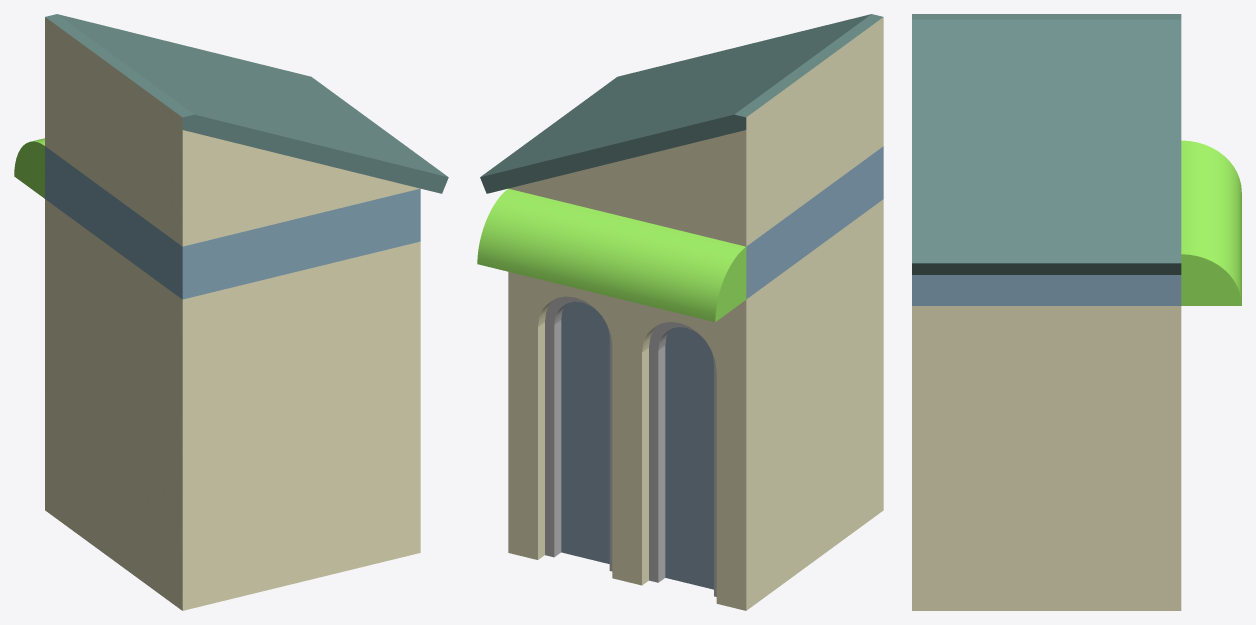
File: SM_Building_05.fbx
3 renders of one model, left to right at view 1: azimuth 30°, elevation 25°; view 2: azimuth 150°, elevation 25°; view 3: azimuth 270°, elevation 25°, orthographic. The views are drawn at different scales.
Visible parts, largest first — view 1: SM_Building_05; view 2: SM_Building_05; view 3: SM_Building_05.
Part boxes in pixels (x1,y1,x2,y2): SM_Building_05: (14, 14, 448, 610); SM_Building_05: (477, 14, 883, 610); SM_Building_05: (912, 14, 1241, 610).
Bounding box in the file's own units: 448 × 793 × 490.
